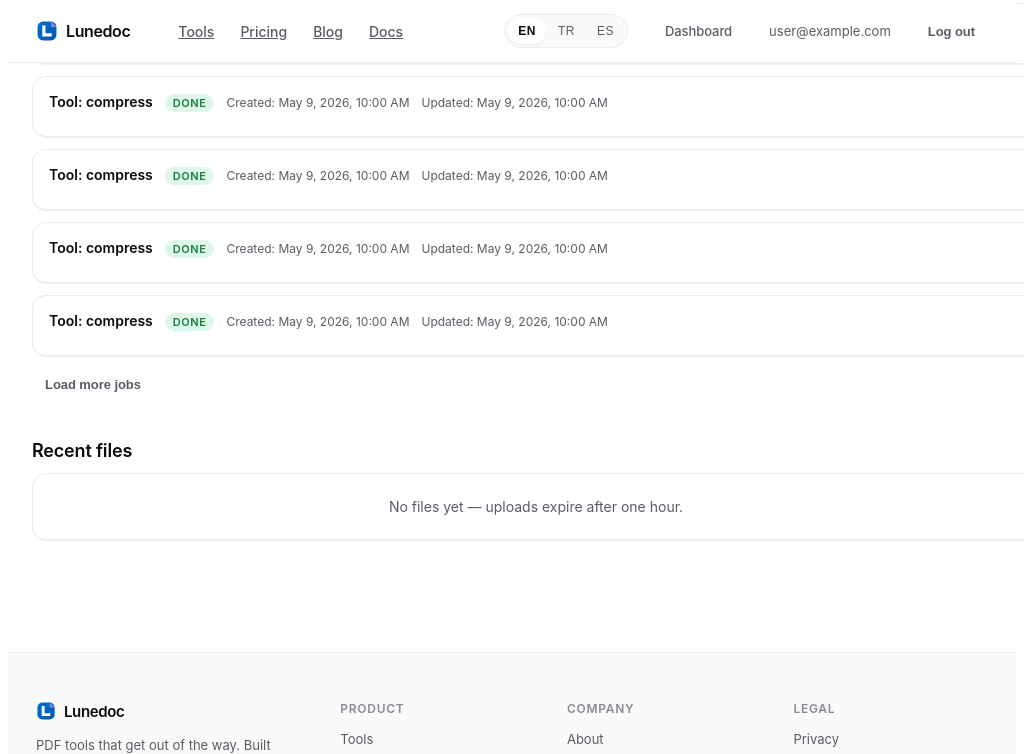
Test: DashboardPage › preserves rendered jobs and shows an inline retry when load-more fails
The width and height of the screenshot is (1024, 754).
(page scrolled)
Click the button "Load more jobs". click: (93, 384)
box: x1=32 y1=368 x2=154 y2=400
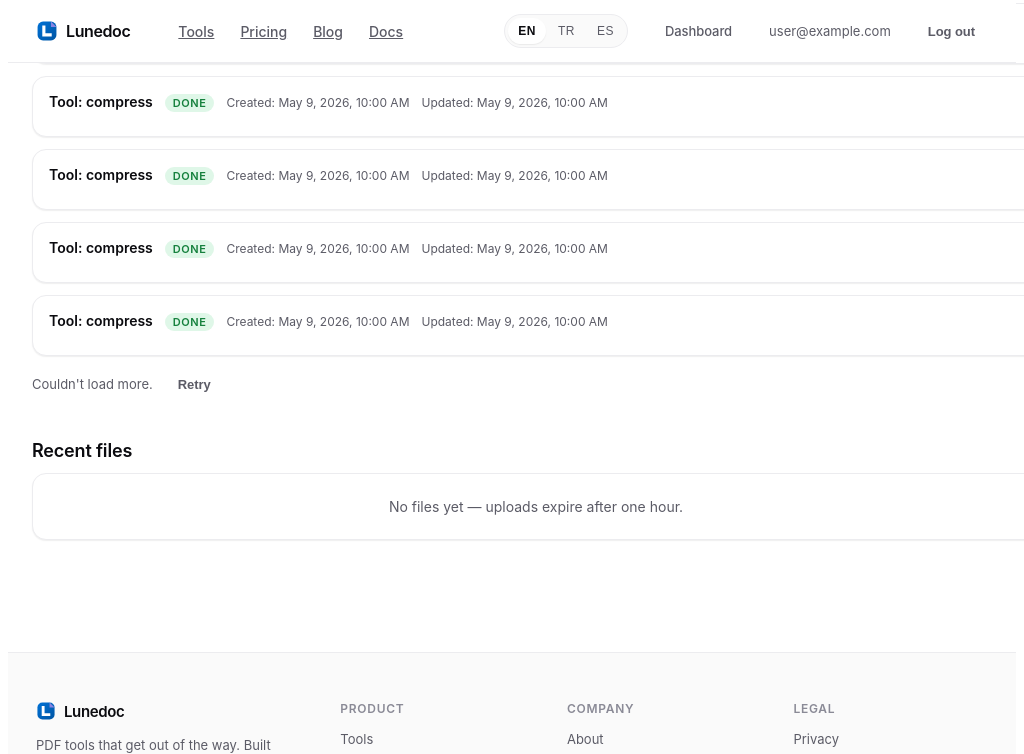
expect the text "Couldn't load more." is shown: met, box x1=32 y1=376 x2=153 y2=392
expect the button "Load more jobs" is gone: met
Click the button "Retry". click: (194, 384)
box: x1=165 y1=368 x2=224 y2=400
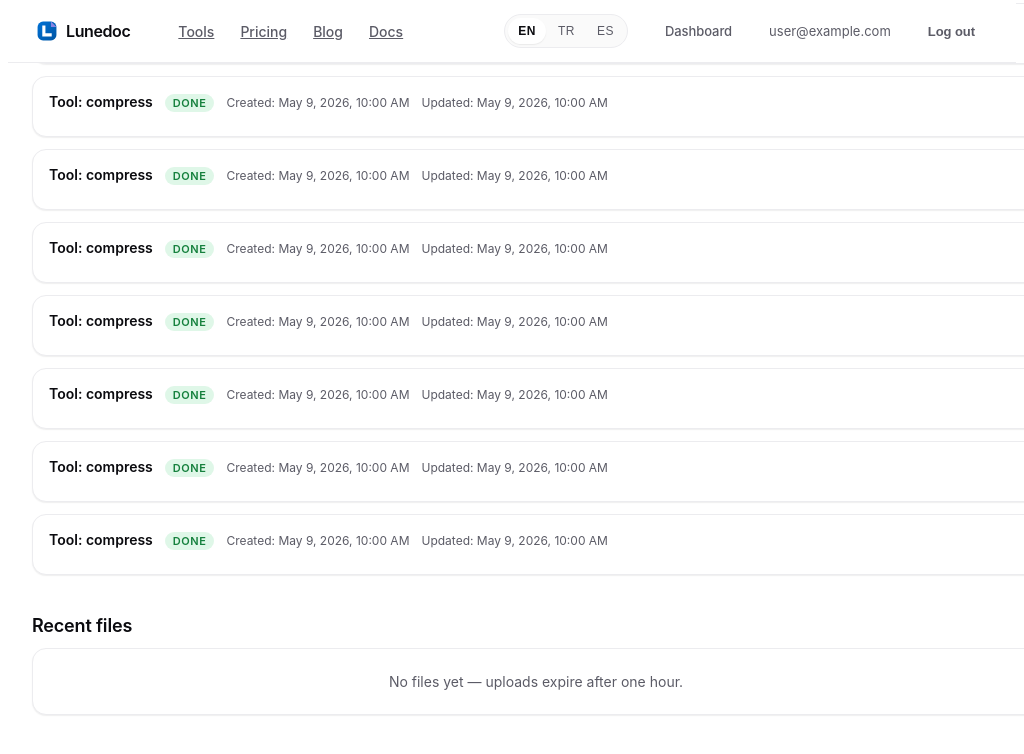
expect the button "Load more jobs" is not shown: met
expect the text "Couldn't load more." is gone: met
